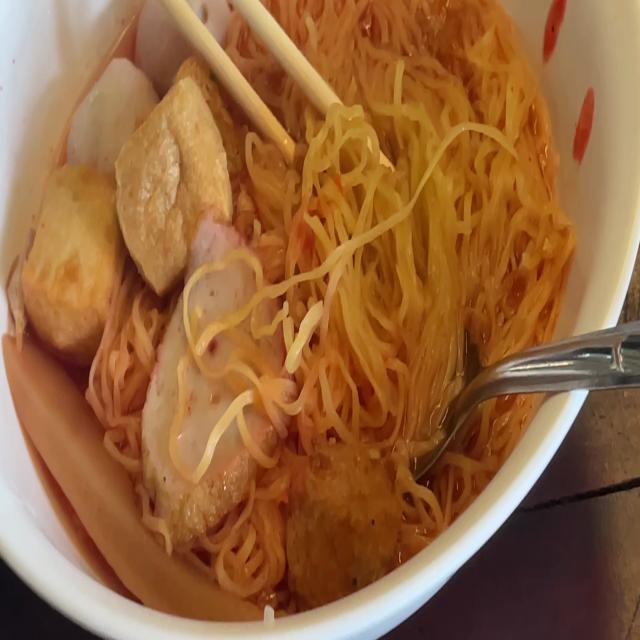crunchy_squid: (0, 333, 272, 626)
egg_noodles: (253, 15, 555, 453)
fish_ball: (66, 55, 158, 185), (134, 0, 232, 82)
fried_fish_balls: (145, 219, 282, 521)
fried_tofu: (127, 62, 239, 256)
noodle: (6, 0, 562, 584)
tofu: (26, 167, 123, 343)
